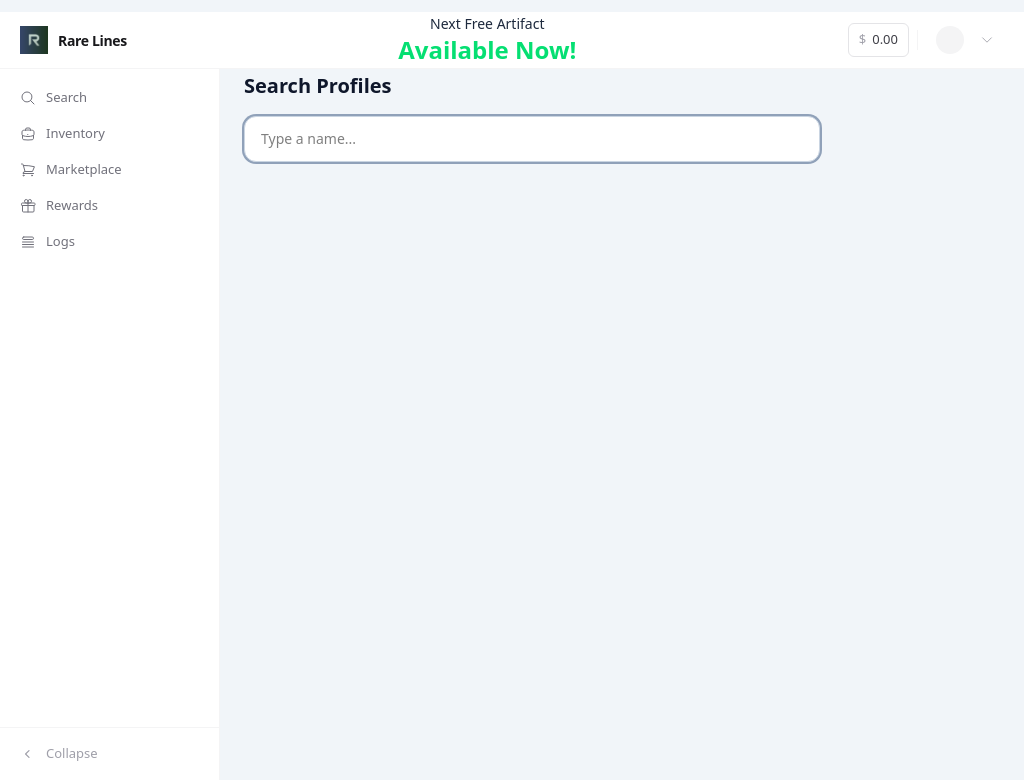
Scenario: SearchPage › requires at least 2 characters
Type "j" into the field with placeholder "Type a name..." at (532, 139), box [244,116,820,162]
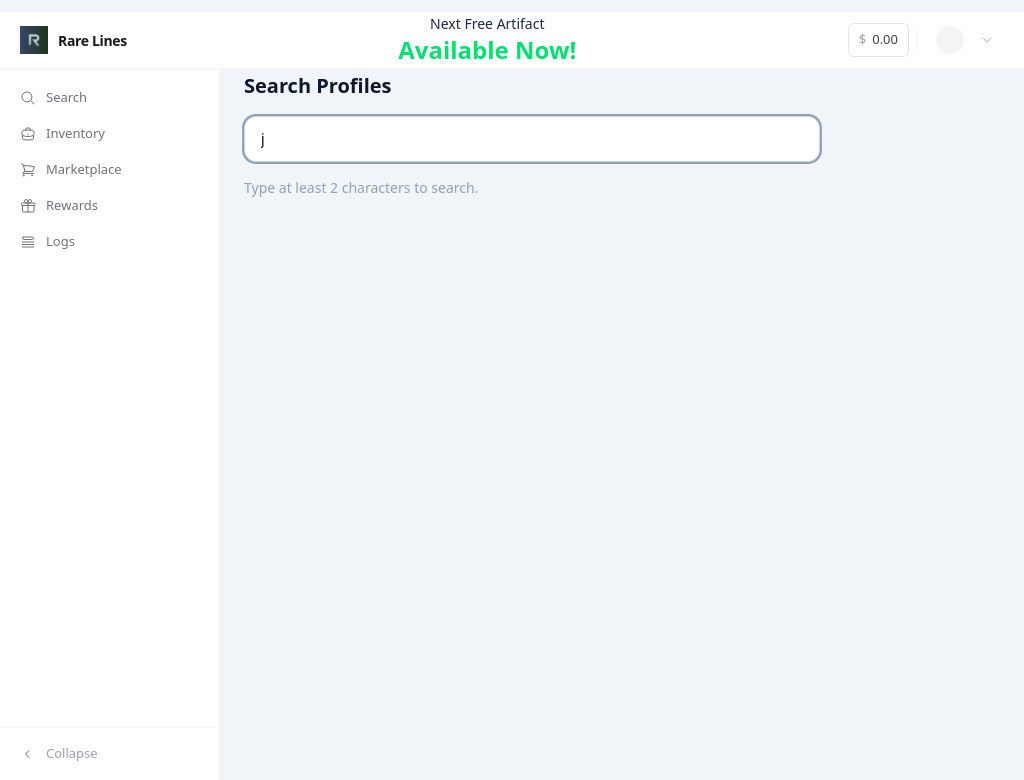
expect the text "Type at least 2 characters to search." is shown: met, box [244,178,478,197]
